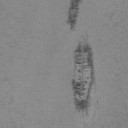oxide scale of plate system: (71, 40, 96, 114), (66, 0, 82, 29)
